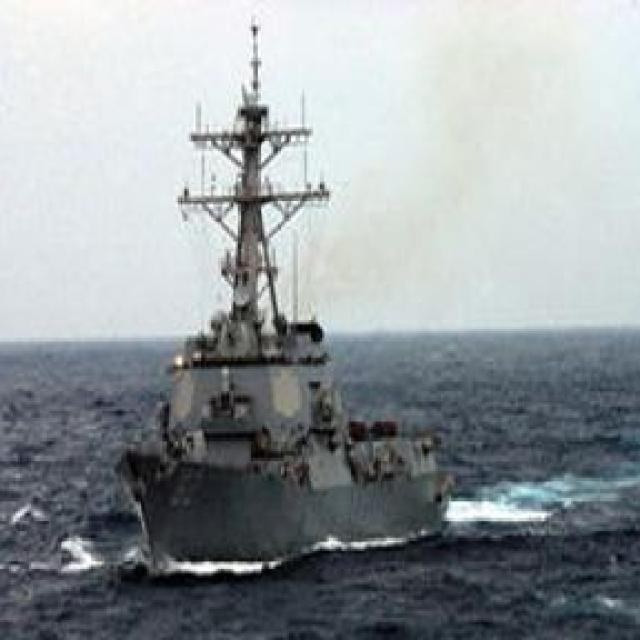navalvessels: (114, 9, 456, 554)
